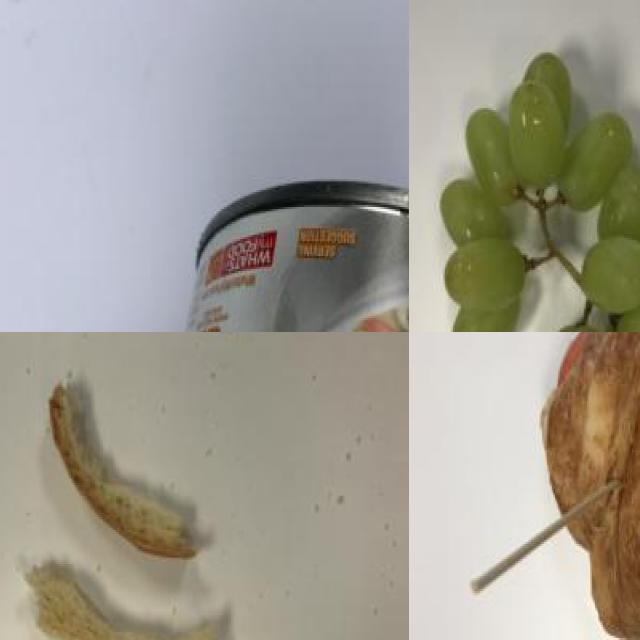compost: (0, 357, 296, 640), (409, 32, 640, 332), (509, 332, 640, 640)
plastic: (149, 181, 409, 332)
